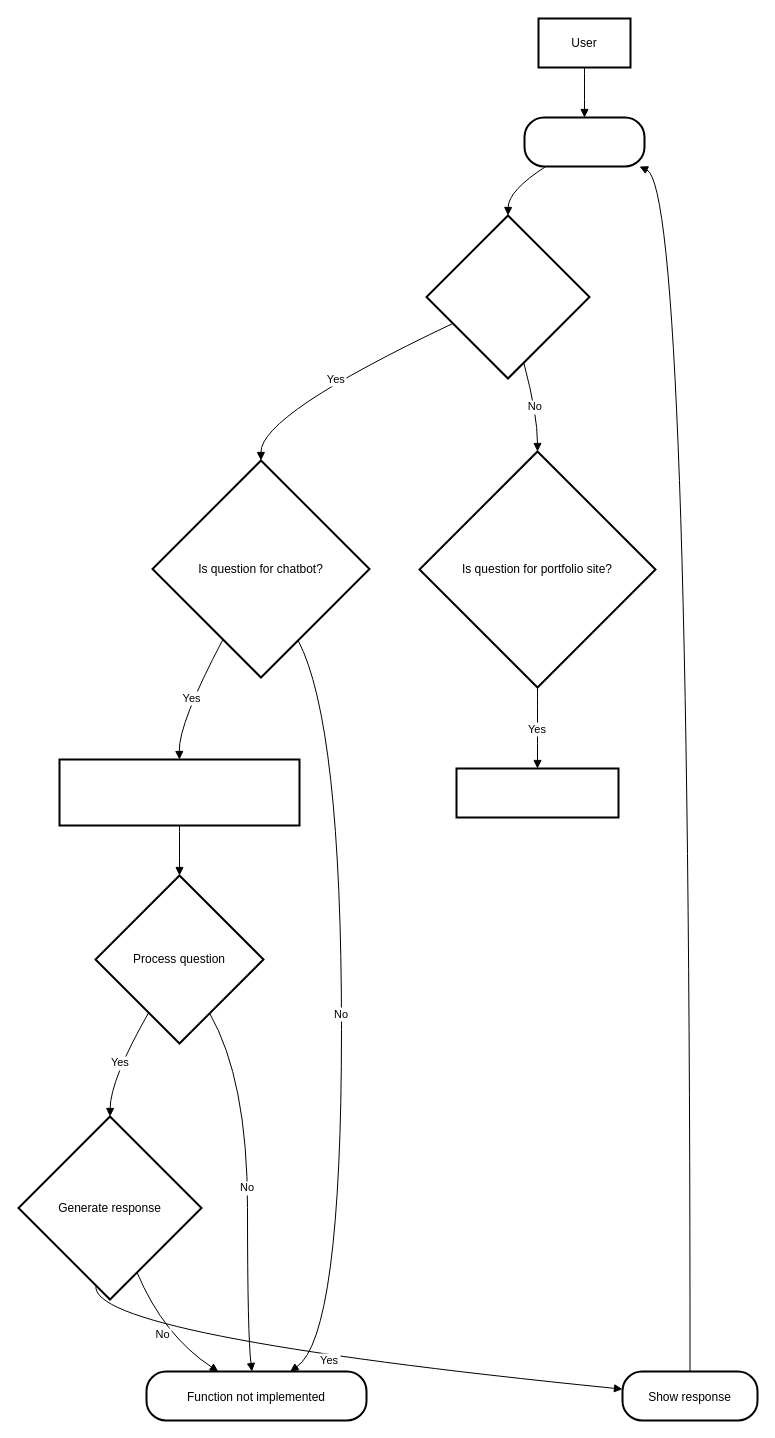
Some shapes in this 775 by 1438 pixel diagram are drawn without their labels. Here are the shapes that lost their labels. From the top down, the box of each, then its label:
(523, 116, 645, 167): Ask question
(425, 214, 590, 379): Question asked?
(58, 758, 300, 826): Send question to chatbot backend
(455, 767, 619, 818): View Portfolio
